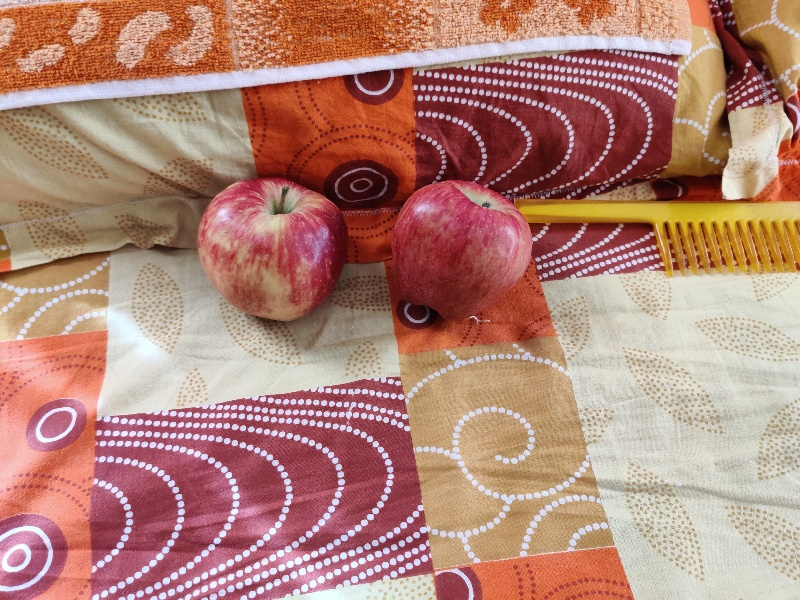apple: (383, 170, 534, 323), (191, 172, 340, 321)
